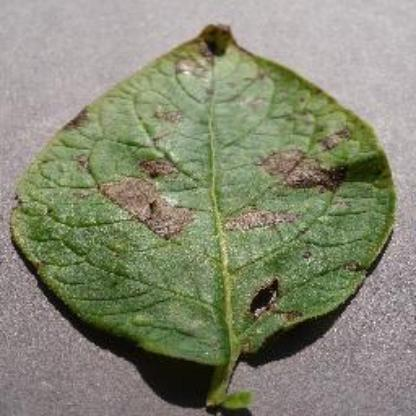Early-Blight: (9, 17, 401, 404)
